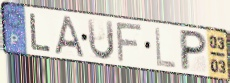A: (54, 15, 86, 59)
F: (115, 22, 144, 64)
L: (153, 26, 178, 70), (29, 12, 53, 54)
P: (179, 28, 209, 72)
U: (86, 17, 116, 62)
